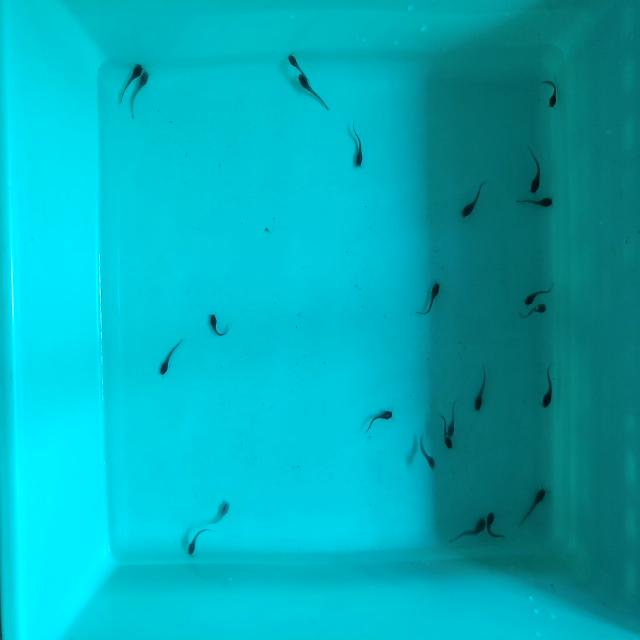lele: (293, 69, 331, 115), (125, 67, 156, 121), (515, 483, 550, 529), (115, 58, 146, 106), (458, 177, 491, 222), (156, 335, 187, 382), (445, 514, 486, 546), (416, 278, 442, 321), (184, 524, 212, 561), (414, 430, 439, 471), (363, 404, 395, 434), (472, 364, 492, 412), (522, 278, 553, 307), (539, 363, 558, 410), (284, 47, 309, 81), (206, 499, 234, 529), (350, 118, 365, 169), (437, 411, 455, 453), (519, 300, 552, 322), (527, 146, 542, 194), (514, 192, 555, 209), (485, 509, 503, 543), (545, 74, 561, 109), (208, 309, 222, 341), (447, 398, 457, 440)
